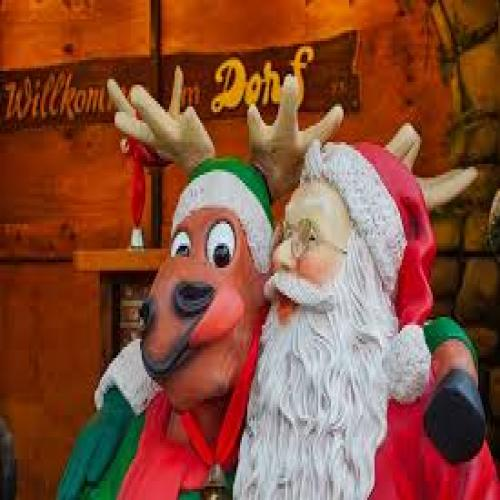Santa: (232, 140, 500, 500)
